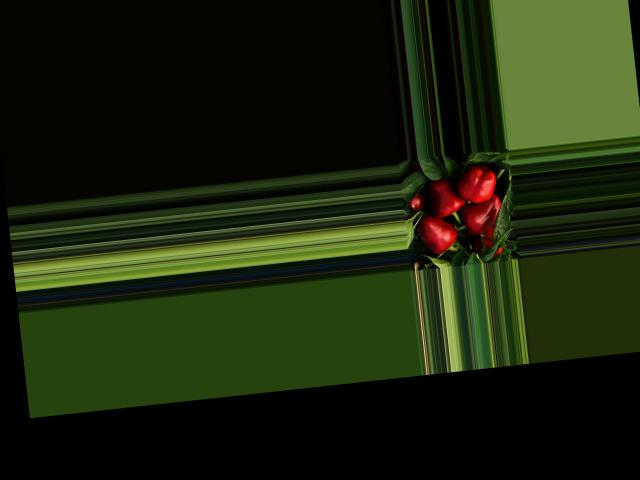bell_pepper: (445, 163, 502, 206)
